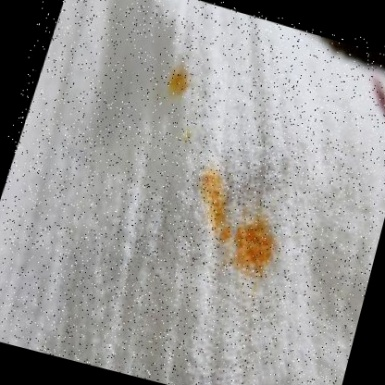kimchi: (224, 211, 290, 281), (185, 166, 245, 243), (162, 58, 202, 104), (177, 126, 197, 146)
